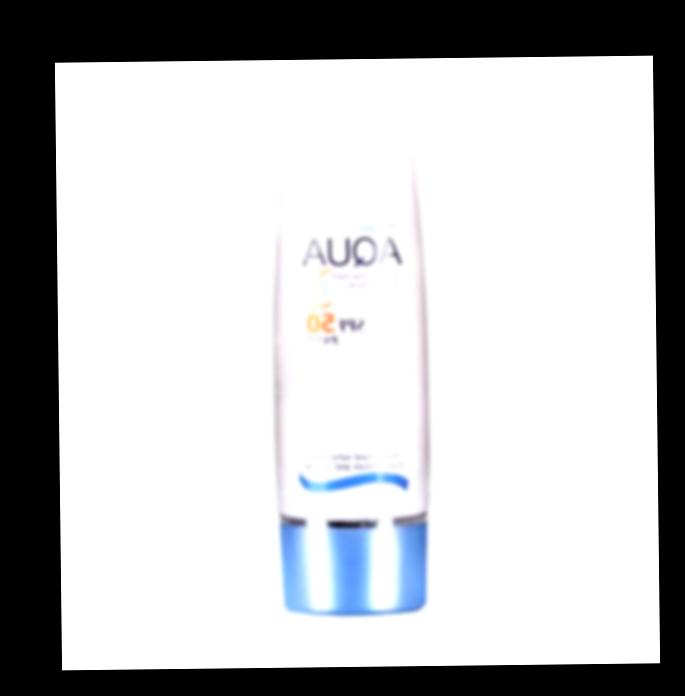cosmetic: (269, 112, 430, 615)
